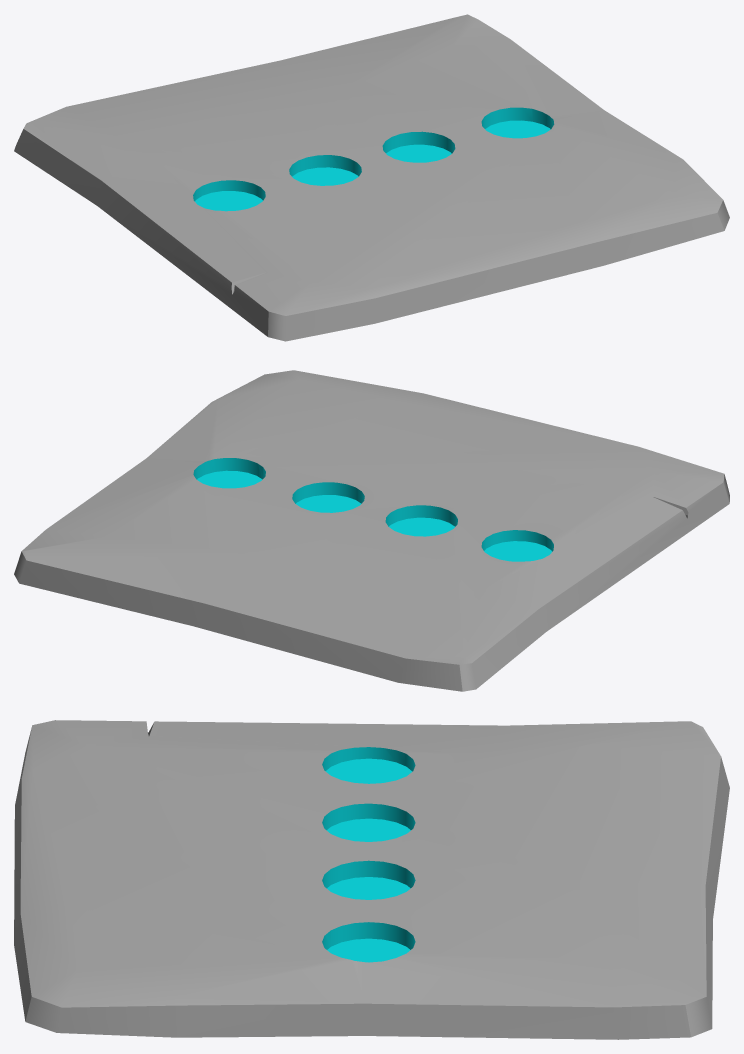
The model's file is dalle4.fbx.
3 views of the same model, one above another, from view 1: azimuth 30°, elevation 25°; view 2: azimuth 150°, elevation 25°; view 3: azimuth 270°, elevation 25° (orthographic). The views are drawn at different scales.
Visible parts, largest first — view 1: pCube4; view 2: pCube4; view 3: pCube4.
Boxes of the visible parts, left/top/right/bottom form: pCube4: left=14, top=14, right=729, bottom=341; pCube4: left=14, top=370, right=729, bottom=691; pCube4: left=14, top=720, right=729, bottom=1039.
Size of the model in its own units: 6.99 by 0.4395 by 7.18.
